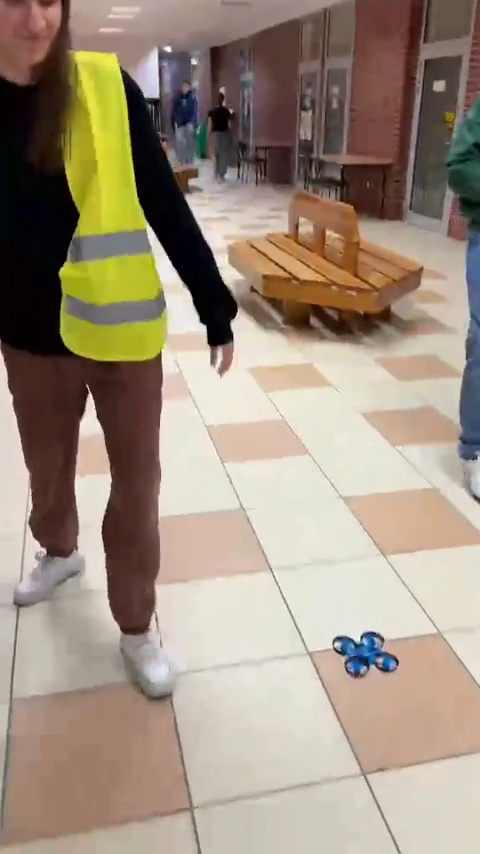drone: (333, 632, 391, 676)
no vest: (205, 84, 238, 189), (166, 70, 195, 167)
vest: (0, 3, 212, 716)
